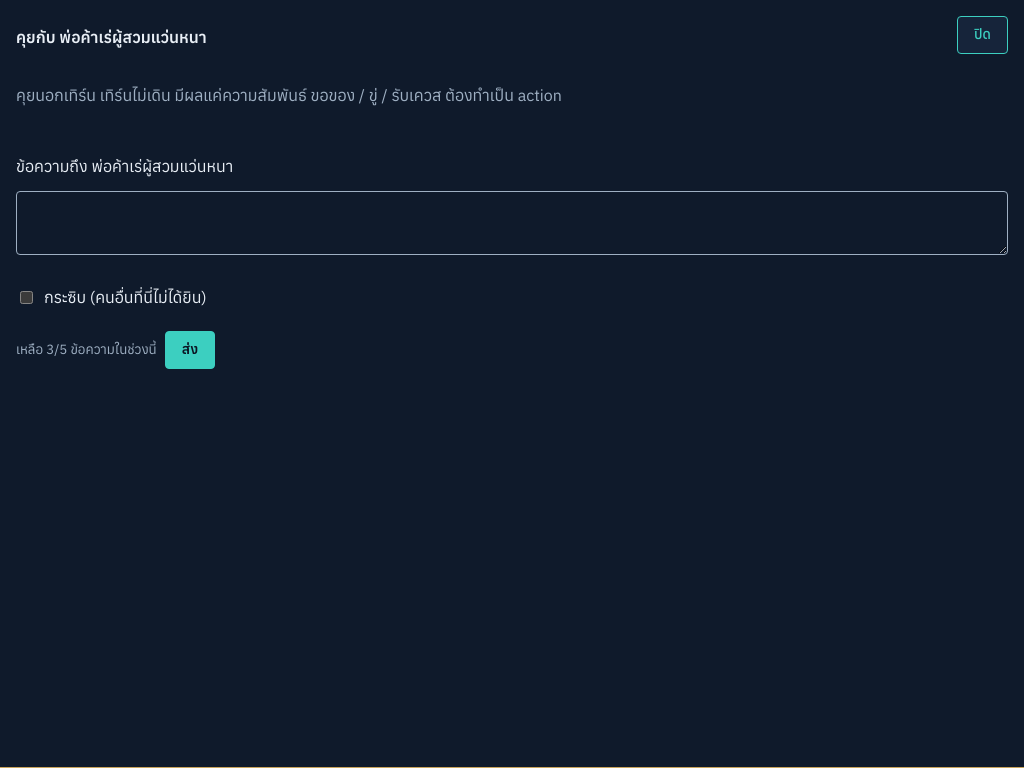
Test case: GEN-149 NPC chat (web) › C1: a message gets the reply in the box and the quota goes down
This screenshot has width=1024, height=768.
Expected: the text "เหลือ 3/5 ข้อความในช่วงนี้" is shown, [16,339,157,361]
In the text box labelled "ข้อความถึง พ่อค้าเร่ผู้สวมแว่นหนา": (512, 223) [16,191,1008,255], type "ตลาดคึกคักไหม"
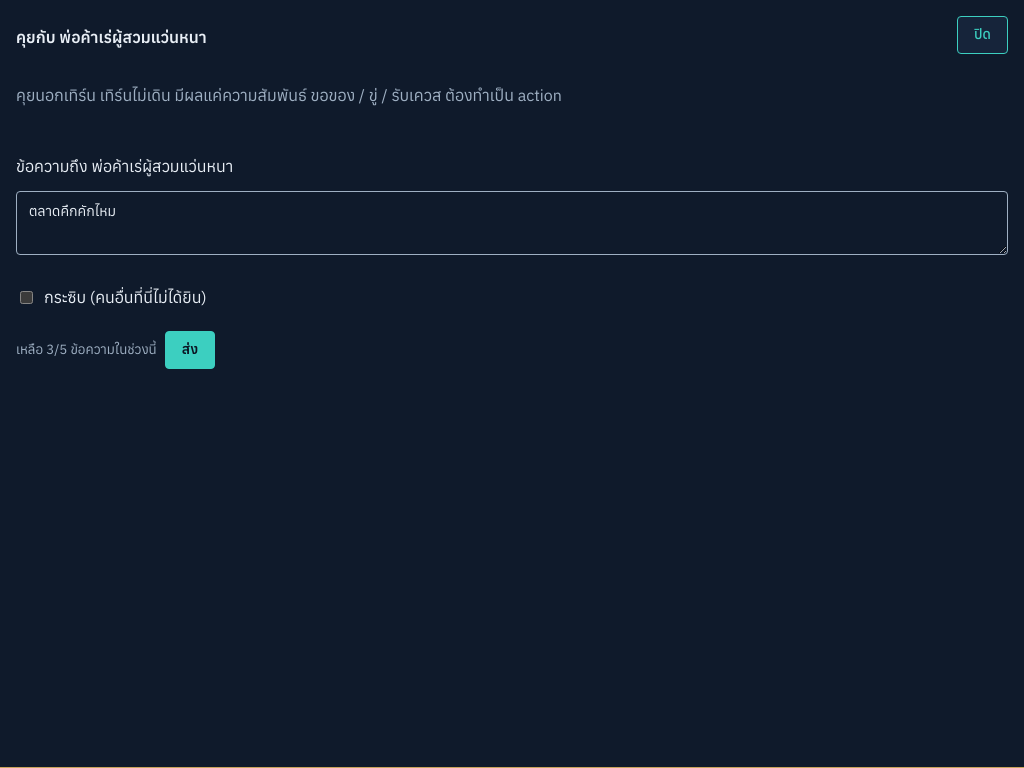
Click the button "ส่ง": click(190, 350) [165,331,215,369]
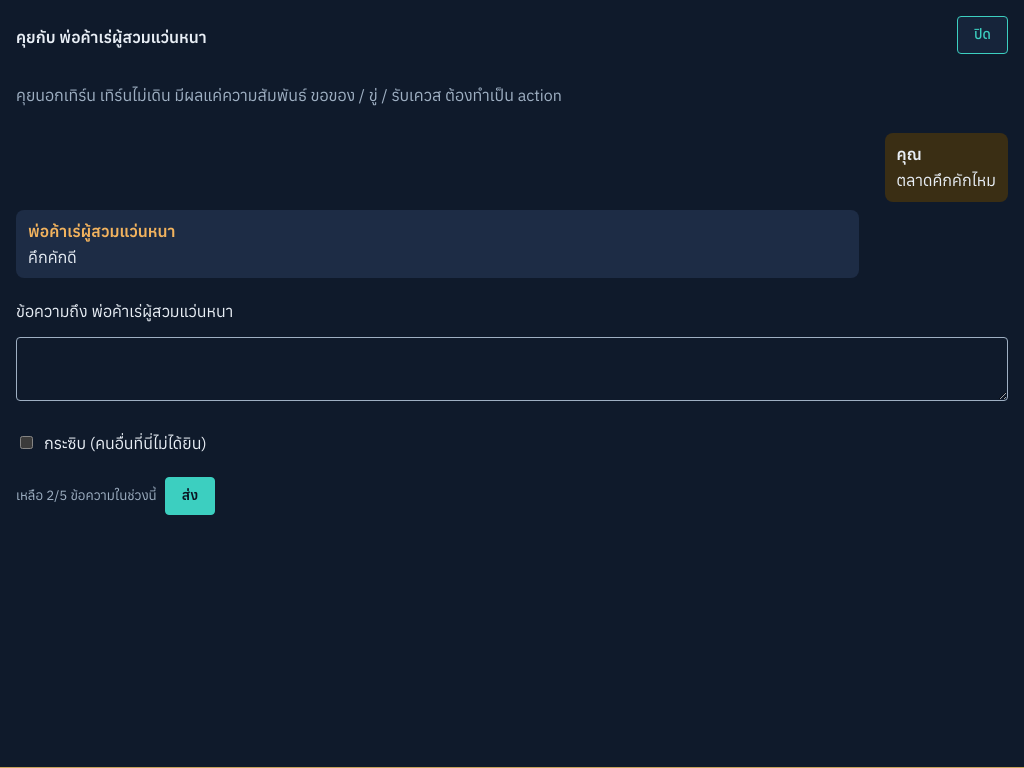
Expected: the text "ตลาดคึกคักไหม" is shown, [897,167,996,194]
Expected: the text "คึกคักดี" is shown, [28,247,77,267]
Expected: the text "เหลือ 2/5 ข้อความในช่วงนี้" is shown, [16,485,157,507]
